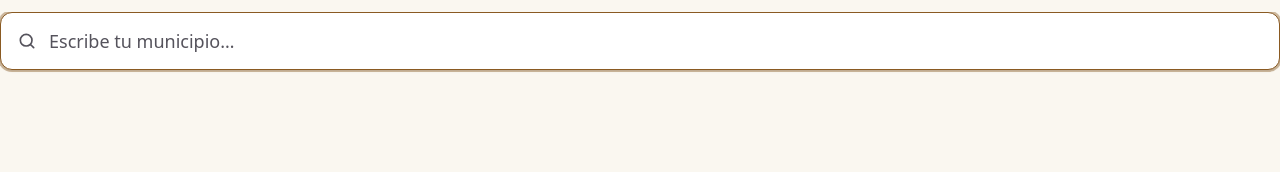
MunicipalitySearch › shows noResults when nothing matches
This screenshot has width=1280, height=172.
In the dropdown: (656, 41) [49,13,1263,69], type "zzzz"
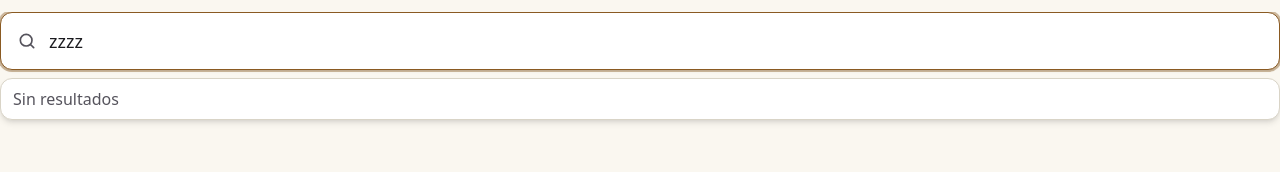
Now the text "Sin resultados" is shown, box [13,88,119,110]
